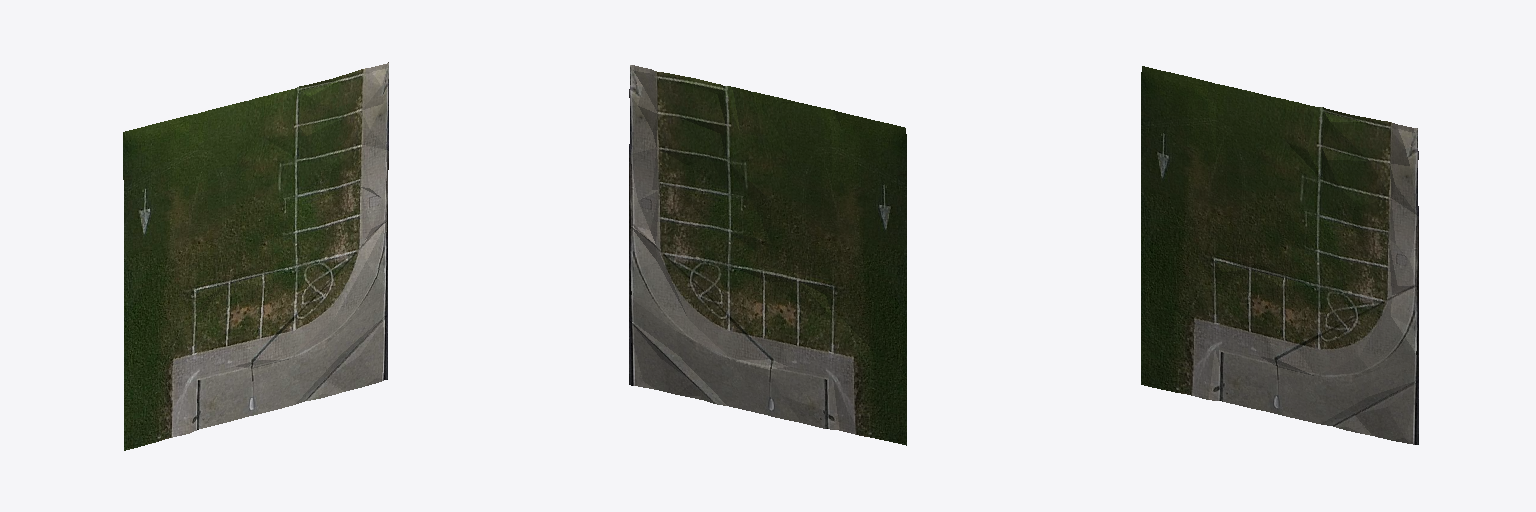
3 views of the same model, side by side, from view 1: azimuth 30°, elevation 25°; view 2: azimuth 150°, elevation 25°; view 3: azimuth 330°, elevation 25° (orthographic).
Visible parts, largest first — view 1: obj_0; view 2: obj_0; view 3: obj_0.
Boxes of the visible parts, box(x1,y1,x2,y2) form: obj_0: box(123, 62, 388, 450); obj_0: box(629, 65, 906, 445); obj_0: box(1141, 66, 1418, 444).
Bounding box in the file's own units: 20.08 × 22.53 × 0.9737.
1 materials, 1 textured.